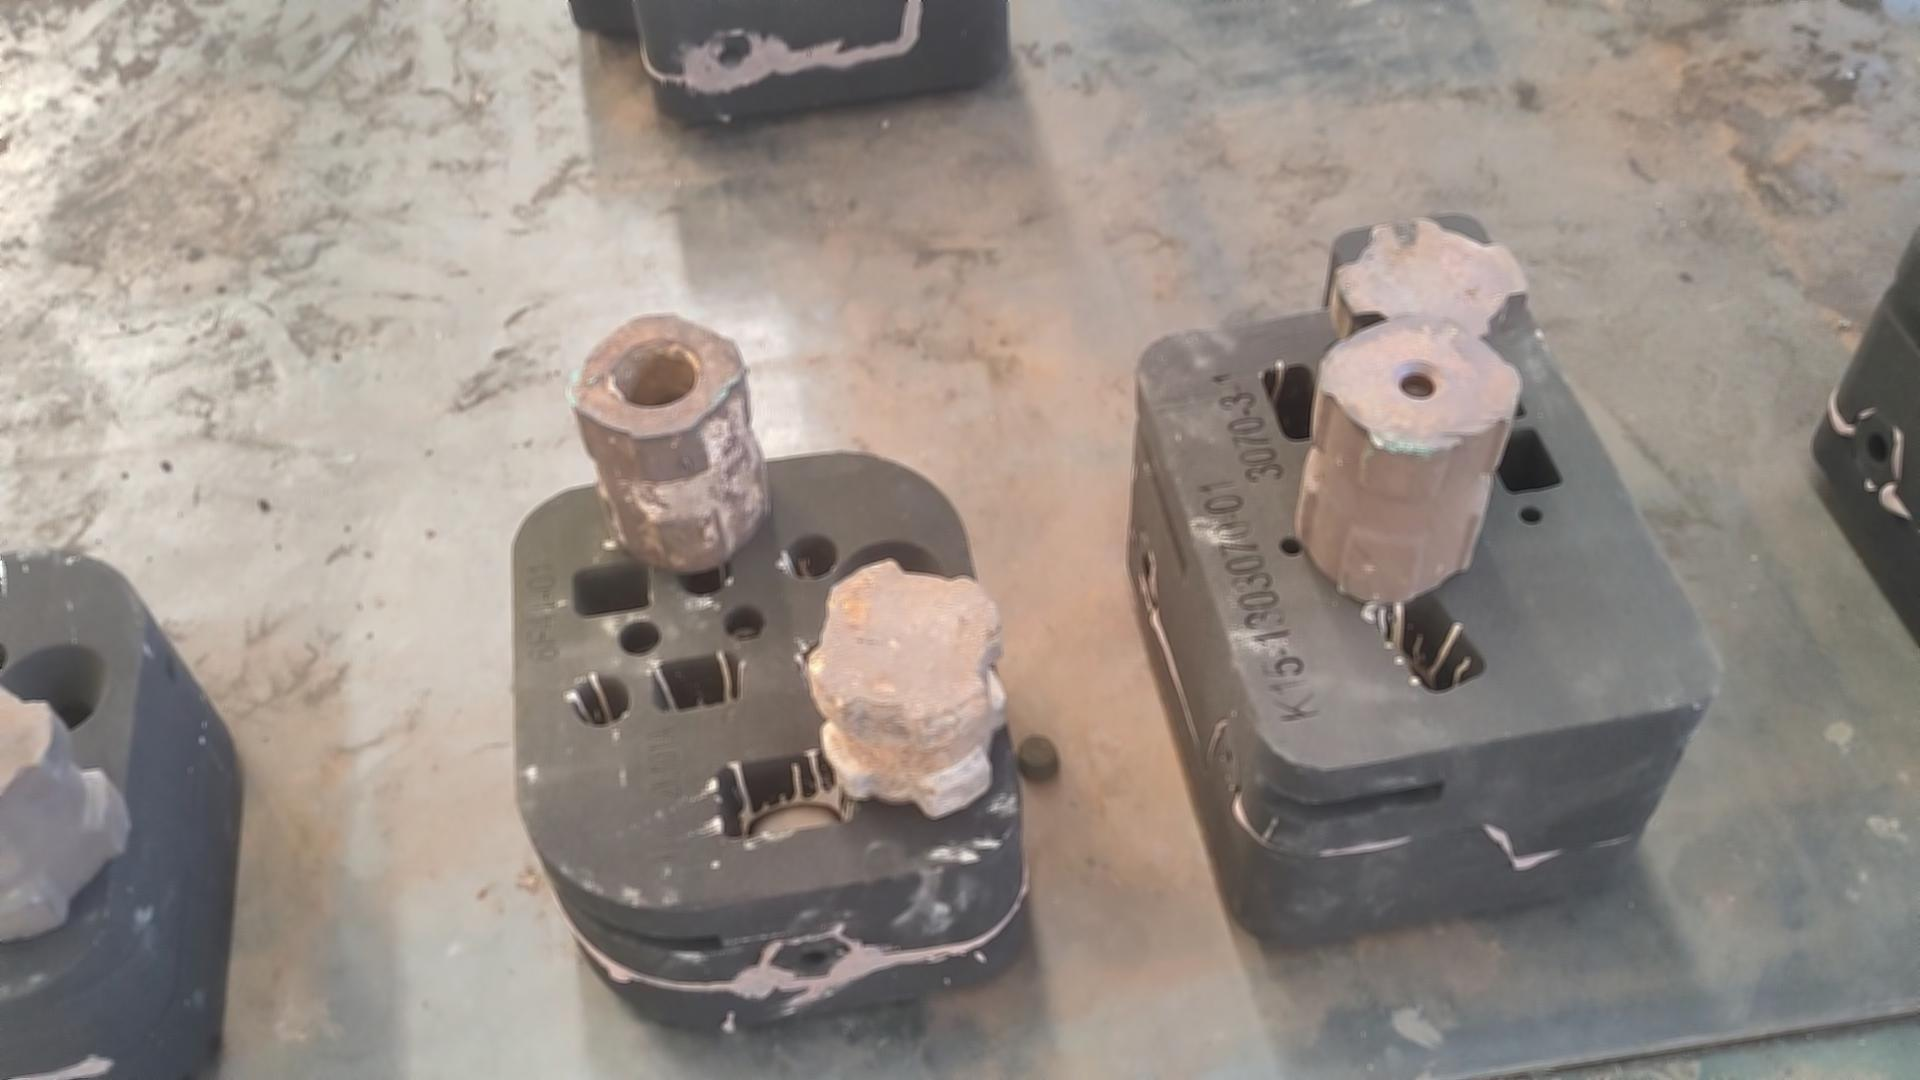pouring hole: (828, 538, 945, 629), (1, 640, 104, 735), (1379, 248, 1474, 320)
